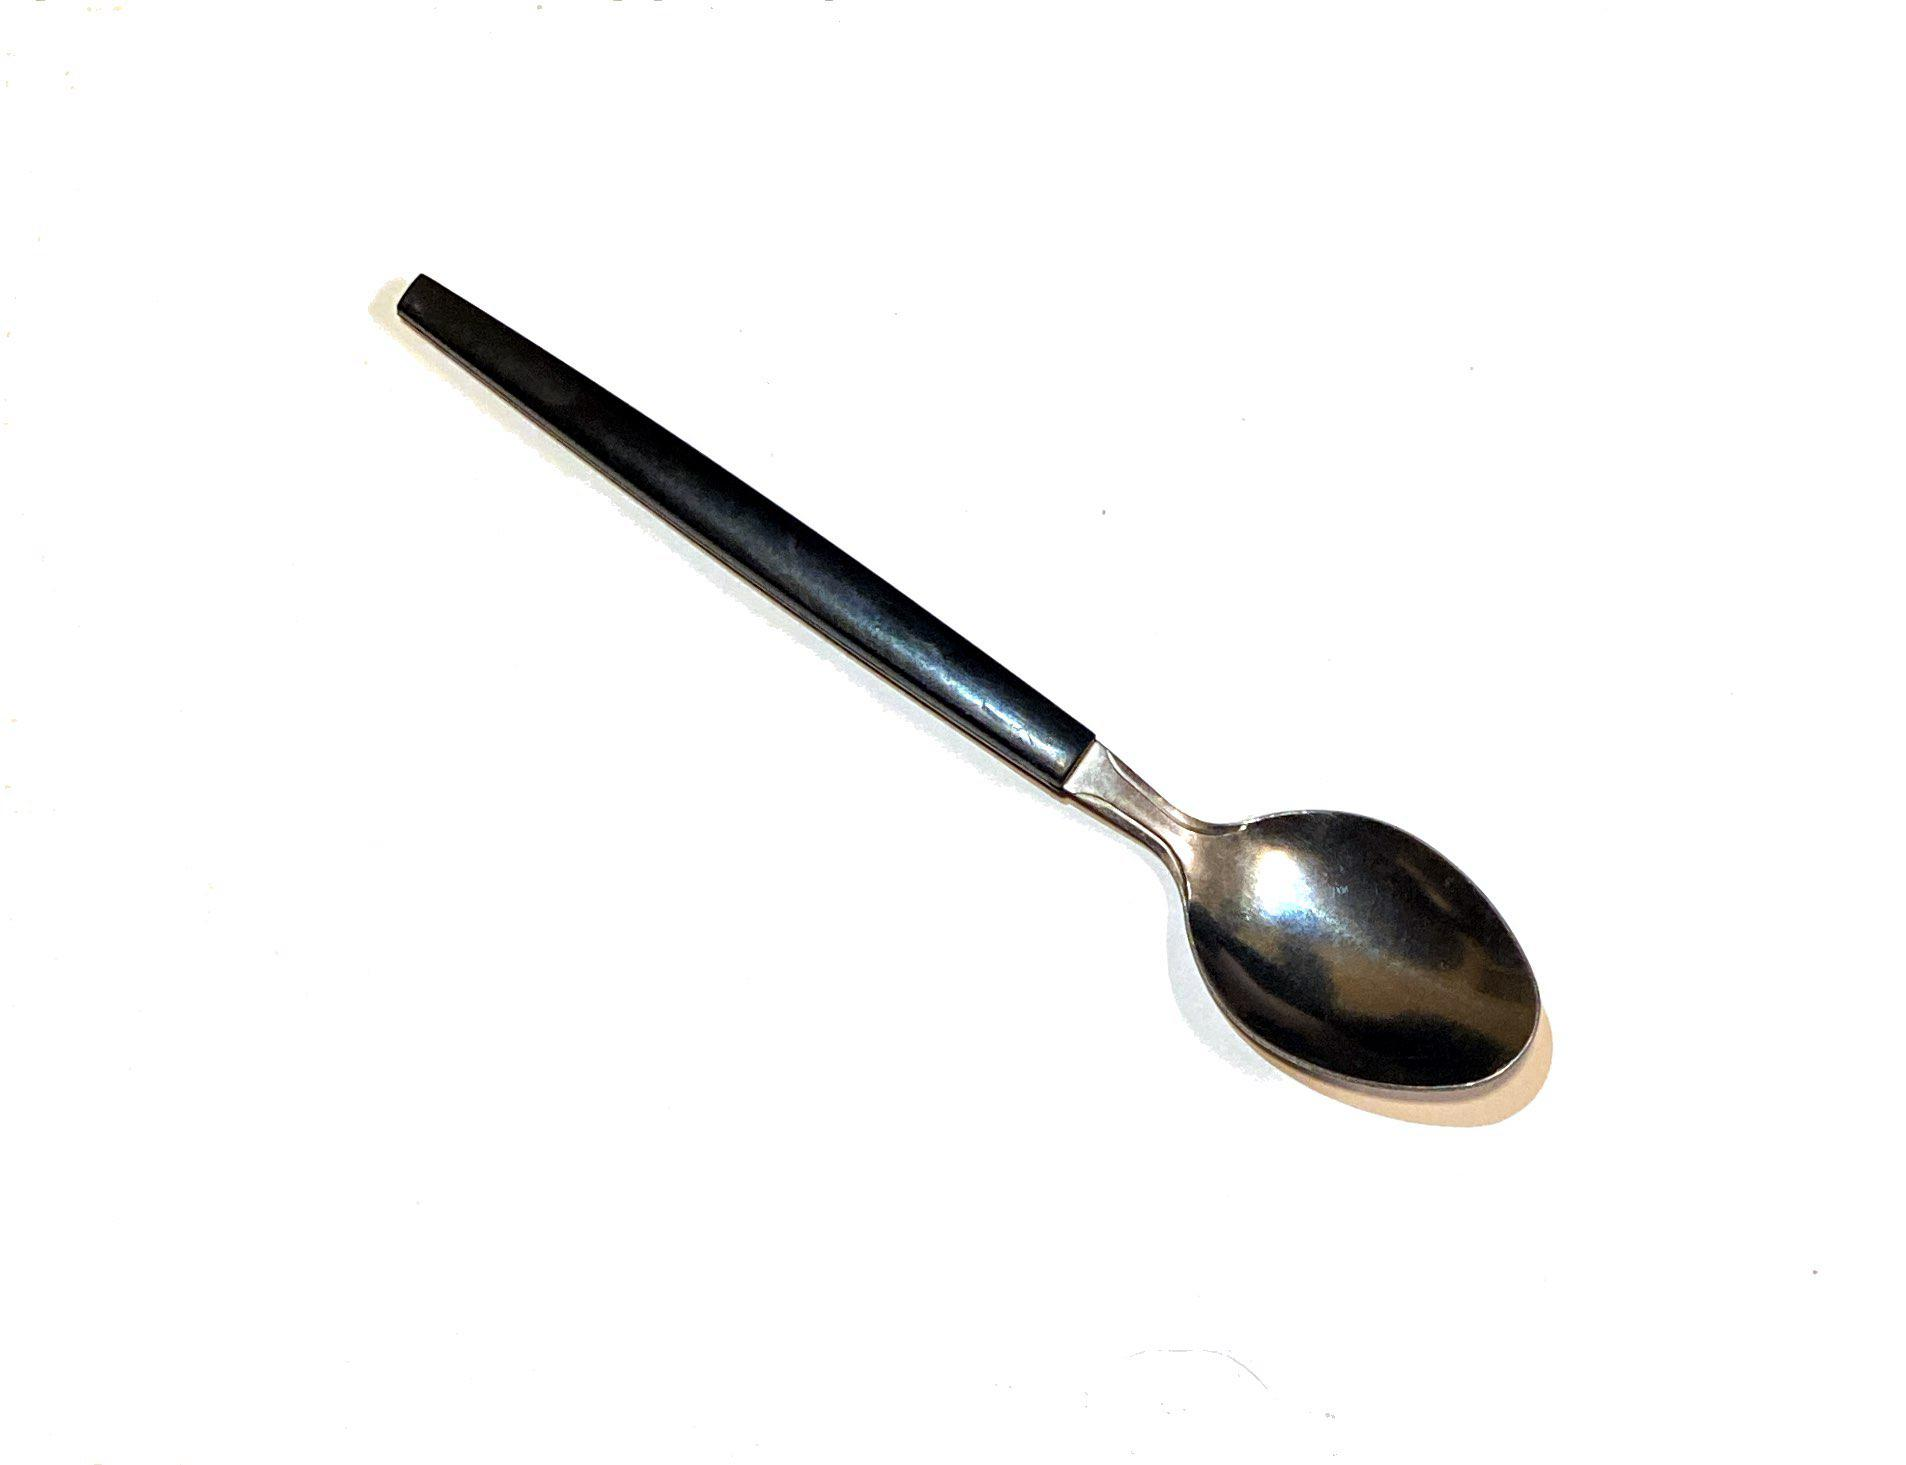Spoon: (383, 208, 1688, 1213)
